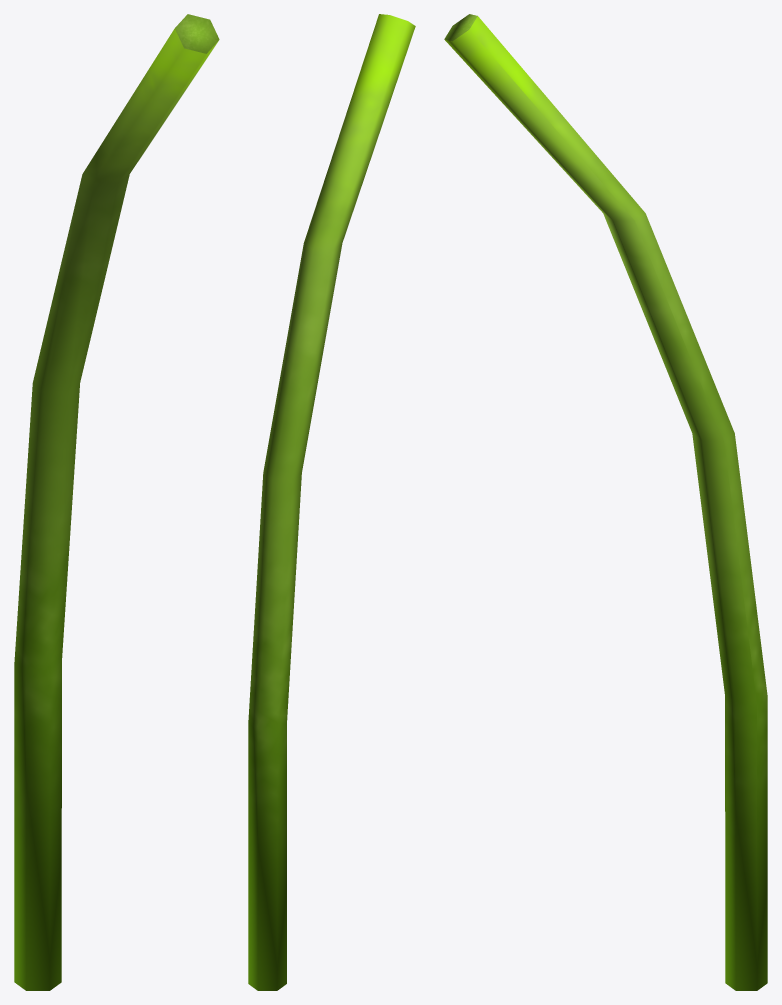
The model's file is stem04.fbx.
3 renders of one model, left to right at view 1: azimuth 30°, elevation 25°; view 2: azimuth 150°, elevation 25°; view 3: azimuth 270°, elevation 25°, orthographic. The views are drawn at different scales.
Parts seen in each view (by area): view 1: stem04; view 2: stem04; view 3: stem04.
Boxes of the visible parts, box(x1,y1,x2,y2) form: stem04: box(14, 14, 219, 990); stem04: box(248, 14, 415, 990); stem04: box(444, 14, 767, 990).
Bounding box in the file's own units: 17.32 × 502 × 152.
